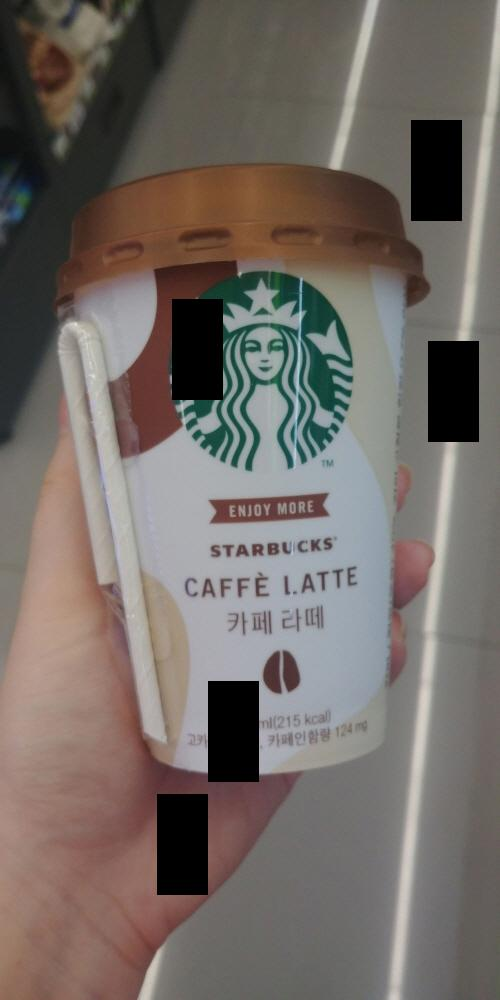starbucks_cafelatte: (36, 163, 479, 799)
